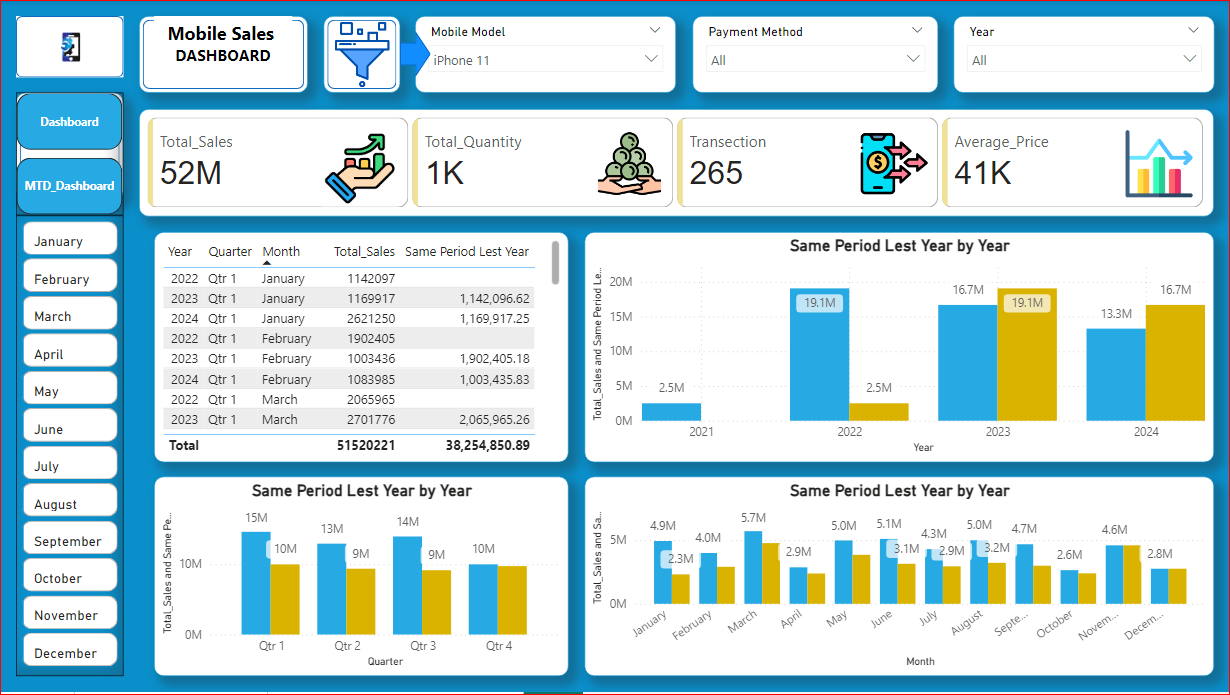

What the dashboard file says about the page in this screenshot:
{"tool":"powerbi","page":{"name":"SAMEPERIODLASTYEAR","canvas":[1280,720],"ordinal":2},"visuals":[{"type":"shape","box":[16,16,112,64],"z":0},{"type":"image","box":[0,16,144,64],"z":1000},{"type":"shape","box":[16,96,112,112],"z":2000},{"type":"cardVisual","fields":{"Data":["Sales_Data.Total_Sales","Sales_Data.Total_Quantity","Sales_Data.Transection","Sales_Data.Average_Price"]},"box":[144,112,1120,112],"z":3000},{"type":"slicer","fields":{"Values":["Sales_Data.Mobile Model"]},"box":[432,16,272,80],"z":4000},{"type":"slicer","fields":{"Values":["Sales_Data.Payment Method"]},"box":[720,16,256,80],"z":5000},{"type":"slicer","fields":{"Values":["Custom_Calender.Date.Variation.Date Hierarchy.Year"]},"box":[992,16,272,80],"z":6000},{"type":"shape","box":[336,16,80,80],"z":7000},{"type":"image","box":[336,16,80,80],"z":8000},{"type":"shape","box":[416,32,32,48],"z":9000},{"type":"shape","box":[144,16,176,80],"z":10000},{"type":"textbox","box":[160,16,144,64],"z":11000},{"type":"advancedSlicerVisual","fields":{"Values":["Custom_Calender.Date.Variation.Date Hierarchy.Month"]},"box":[16,224,112,480],"z":13000},{"type":"tableEx","fields":{"Values":["Custom_Calender.Date.Variation.Date Hierarchy.Year","Custom_Calender.Date.Variation.Date Hierarchy.Quarter","Custom_Calender.Date.Variation.Date Hierarchy.Month","Sales_Data.Total_Sales","Sales_Data.Same Period Lest Year"]},"box":[160,240,432,240],"z":13001},{"type":"lineClusteredColumnComboChart","title":"Same Period Lest Year by Year","fields":{"Category":["Custom_Calender.Date.Variation.Date Hierarchy.Year","Custom_Calender.Date.Variation.Date Hierarchy.Quarter","Custom_Calender.Date.Variation.Date Hierarchy.Month"],"Y":["Sales_Data.Total_Sales","Sales_Data.Same Period Lest Year"]},"box":[608,240,656,240],"z":13002},{"type":"lineClusteredColumnComboChart","title":"Same Period Lest Year by Year","fields":{"Category":["Custom_Calender.Date.Variation.Date Hierarchy.Year","Custom_Calender.Date.Variation.Date Hierarchy.Quarter","Custom_Calender.Date.Variation.Date Hierarchy.Month"],"Y":["Sales_Data.Total_Sales","Sales_Data.Same Period Lest Year"]},"box":[608,496,656,208],"z":13003},{"type":"lineClusteredColumnComboChart","title":"Same Period Lest Year by Year","fields":{"Category":["Custom_Calender.Date.Variation.Date Hierarchy.Year","Custom_Calender.Date.Variation.Date Hierarchy.Quarter","Custom_Calender.Date.Variation.Date Hierarchy.Month"],"Y":["Sales_Data.Total_Sales","Sales_Data.Same Period Lest Year"]},"box":[160,496,432,208],"z":13004},{"type":"pageNavigator","box":[16,96,112,128],"z":13005}]}

Visuals, with their boxes in screenshot pixels (x1, y1, x2, y2), scaled from the page's 1280x720 canvas onto the 1230x695 screenshot:
shape: select_region(15, 15, 123, 77)
image: select_region(0, 15, 138, 77)
shape: select_region(15, 93, 123, 201)
cardVisual - Sales_Data.Total_Sales x Sales_Data.Total_Quantity: select_region(138, 108, 1215, 216)
slicer - Sales_Data.Mobile Model: select_region(415, 15, 676, 93)
slicer - Sales_Data.Payment Method: select_region(692, 15, 938, 93)
slicer - Custom_Calender.Date.Variation.Date Hierarchy.Year: select_region(953, 15, 1215, 93)
shape: select_region(323, 15, 400, 93)
image: select_region(323, 15, 400, 93)
shape: select_region(400, 31, 430, 77)
shape: select_region(138, 15, 308, 93)
textbox: select_region(154, 15, 292, 77)
advancedSlicerVisual - Custom_Calender.Date.Variation.Date Hierarchy.Month: select_region(15, 216, 123, 680)
tableEx - Custom_Calender.Date.Variation.Date Hierarchy.Year x Custom_Calender.Date.Variation.Date Hierarchy.Quarter: select_region(154, 232, 569, 463)
"Same Period Lest Year by Year" lineClusteredColumnComboChart: select_region(584, 232, 1215, 463)
"Same Period Lest Year by Year" lineClusteredColumnComboChart: select_region(584, 479, 1215, 680)
"Same Period Lest Year by Year" lineClusteredColumnComboChart: select_region(154, 479, 569, 680)
pageNavigator: select_region(15, 93, 123, 216)
